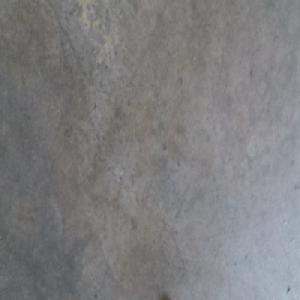Wrench: (167, 294, 175, 299)
